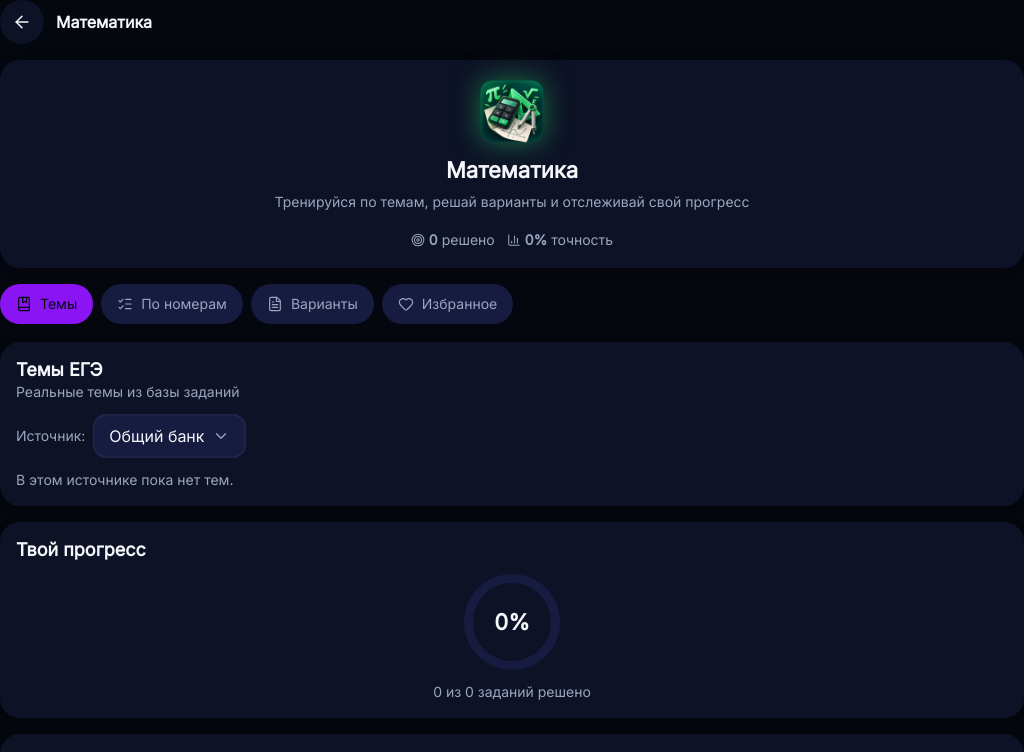
Scenario: SubjectMobile › Варианты — source isolation › lists Ященко and ФИПИ as two separate, non-duplicated source options
What coordinates should you click on to do the following:
click the button "Варианты"
I would click on:
 (312, 304)
Its box is 251,284 -> 374,324.
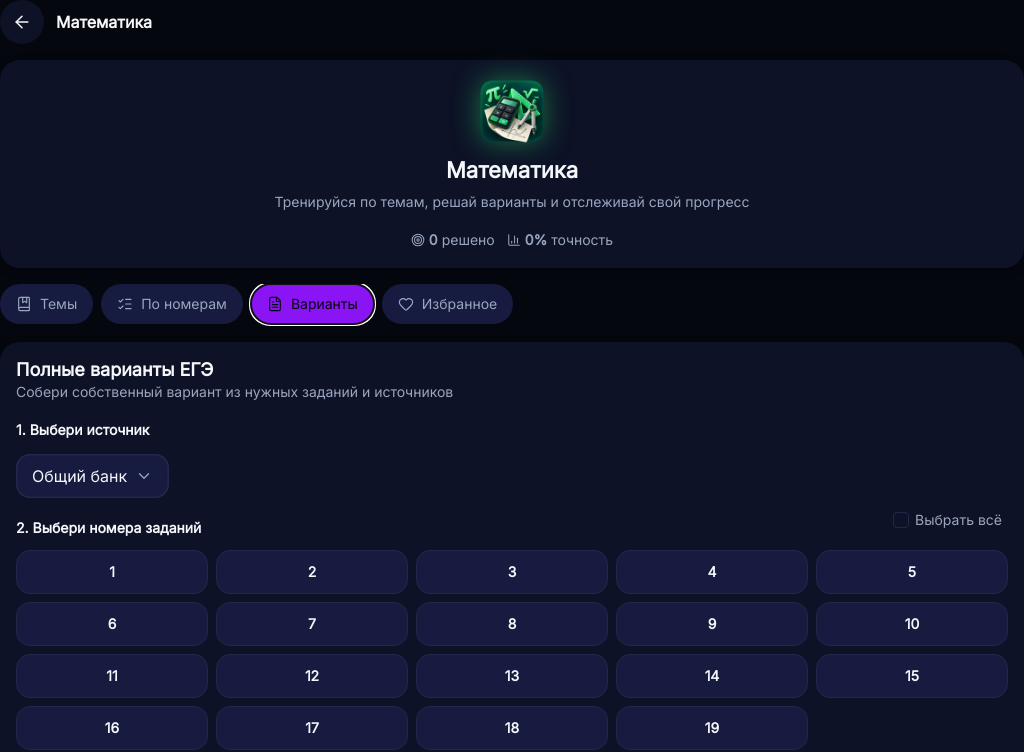
What coordinates should you click on to do the following:
click the button "Общий банк"
I would click on:
 (93, 476)
Its box is 16,454 -> 169,498.
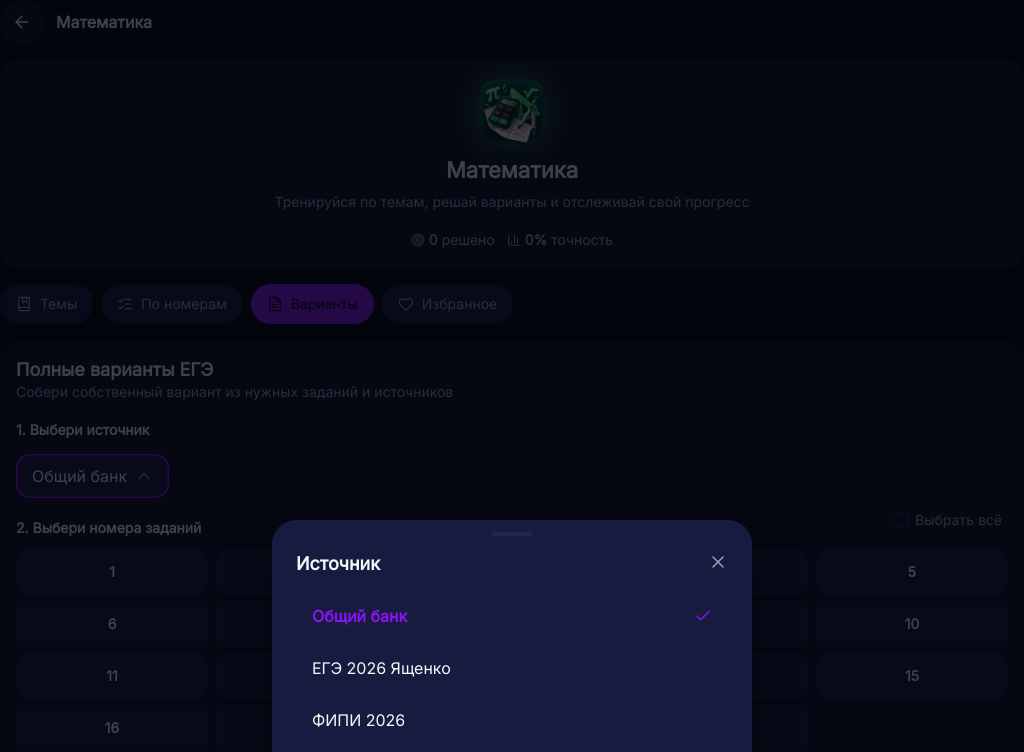
Result: the number of options "ЕГЭ 2026 Ященко" is 1 at 296,644 -> 728,692
Result: the number of options "ФИПИ 2026" is 1 at 296,696 -> 728,744
